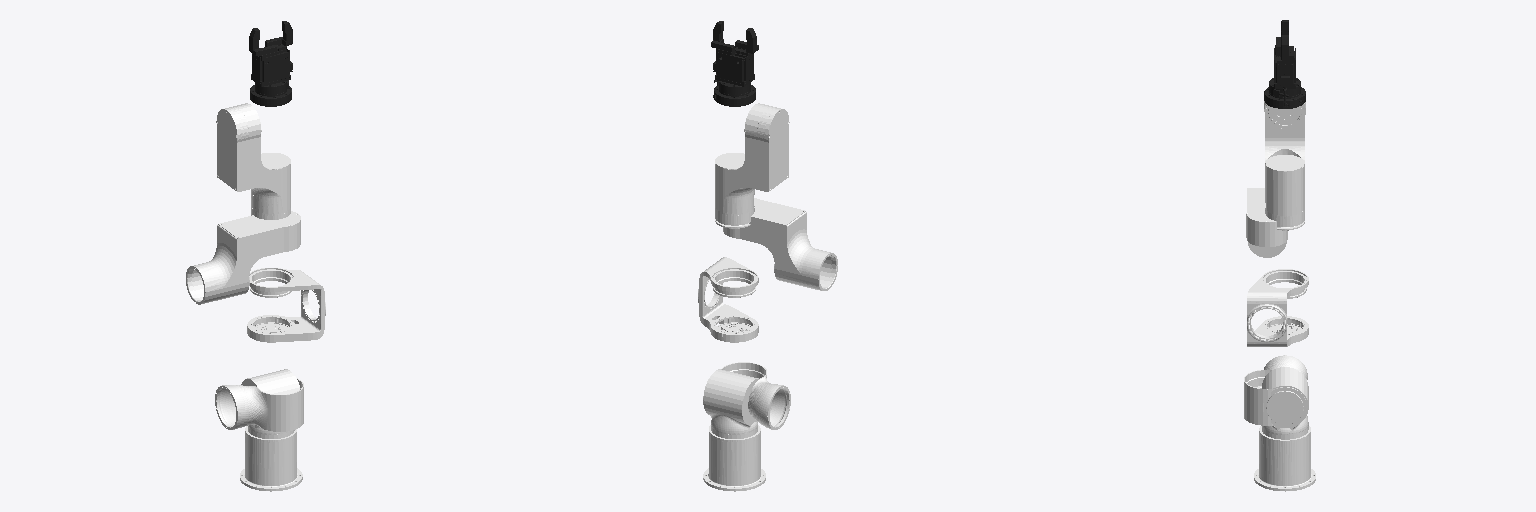
URDF robot description (w10-urdf):
<?xml version="1.0" encoding="utf-8"?>
<!-- This URDF was automatically created by SolidWorks to URDF Exporter! Originally created by Stephen Brawner (brawner@gmail.com) 
     Commit Version: 1.6.0-4-g7f85cfe  Build Version: 1.6.7995.38578
     For more information, please see http://wiki.ros.org/sw_urdf_exporter -->
<robot
  name="w10-urdf">
  <link
    name="base_link">
    <inertial>
      <origin
        xyz="4.1556E-12 5.0803E-12 0.081676"
        rpy="0 0 0" />
      <mass
        value="19.318" />
      <inertia
        ixx="0.067819"
        ixy="2.7427E-07"
        ixz="-2.7824E-12"
        iyy="0.067813"
        iyz="-6.6111E-12"
        izz="0.04982" />
    </inertial>
    <visual>
      <origin
        xyz="0 0 0"
        rpy="0 0 0" />
      <geometry>
        <mesh
          filename="package://w10_sim/meshes/base_link.STL" />
      </geometry>
      <material
        name="">
        <color
          rgba="1 1 1 1" />
      </material>
    </visual>
    <collision>
      <origin
        xyz="0 0 0"
        rpy="0 0 0" />
      <geometry>
        <mesh
          filename="package://w10_sim/meshes/base_link.STL" />
      </geometry>
    </collision>
  </link>
  <link
    name="Link2">
    <inertial>
      <origin
        xyz="0.0032675 -3.021E-06 0.085"
        rpy="0 0 0" />
      <mass
        value="10.901" />
      <inertia
        ixx="0.020174"
        ixy="6.1617E-12"
        ixz="6.0597E-12"
        iyy="0.025336"
        iyz="4.9314E-08"
        izz="0.025339" />
    </inertial>
    <visual>
      <origin
        xyz="0 0 0"
        rpy="0 0 0" />
      <geometry>
        <mesh
          filename="package://w10_sim/meshes/Link2.STL" />
      </geometry>
      <material
        name="">
        <color
          rgba="1 125 1 1" />
      </material>
    </visual>
    <collision>
      <origin
        xyz="0 0 0"
        rpy="0 0 0" />
      <geometry>
        <mesh
          filename="package://w10_sim/meshes/Link2.STL" />
      </geometry>
    </collision>
  </link>
  <joint
    name="joint2"
    type="continuous">
    <origin
      xyz="0 0 0.163"
      rpy="0 0 0" />
    <parent
      link="base_link" />
    <child
      link="Link2" />
    <axis
      xyz="0 0 -1" />
    <limit
      lower="-3.14"
      upper="3.14"
      effort="224"
      velocity="0" />
  </joint>
  <link
    name="Link3">
    <inertial>
      <origin
        xyz="-0.00018944 -0.16588 -0.0024151"
        rpy="0 0 0" />
      <mass
        value="18.719" />
      <inertia
        ixx="0.15689"
        ixy="0.00036464"
        ixz="0.00023874"
        iyy="0.058459"
        iyz="0.011864"
        izz="0.14437" />
    </inertial>
    <visual>
      <origin
        xyz="0 0 0"
        rpy="0 0 0" />
      <geometry>
        <mesh
          filename="package://w10_sim/meshes/Link3.STL" />
      </geometry>
      <material
        name="">
        <color
          rgba="1 1 125 1" />
      </material>
    </visual>
    <collision>
      <origin
        xyz="0 0 0"
        rpy="0 0 0" />
      <geometry>
        <mesh
          filename="package://w10_sim/meshes/Link3.STL" />
      </geometry>
    </collision>
  </link>
  <joint
    name="joint3"
    type="revolute">
    <origin
      xyz="0 0 0.085"
      rpy="-1.5708 0 -1.5708" />
    <parent
      link="Link2" />
    <child
      link="Link3" />
    <axis
      xyz="0 0 -1" />
    <limit
      lower="-1.8"
      upper="1.8"
      effort="224"
      velocity="0" />
  </joint>
  <link
    name="Link4">
    <inertial>
      <origin
        xyz="0.034074 -0.0039348 0.10793"
        rpy="0 0 0" />
      <mass
        value="17.534" />
      <inertia
        ixx="0.073159"
        ixy="0.0010879"
        ixz="-0.018036"
        iyy="0.080913"
        iyz="0.0025355"
        izz="0.043499" />
    </inertial>
    <visual>
      <origin
        xyz="0 0 0"
        rpy="0 0 0" />
      <geometry>
        <mesh
          filename="package://w10_sim/meshes/Link4.STL" />
      </geometry>
      <material
        name="">
        <color
          rgba="1 125 1 1" />
      </material>
    </visual>
    <collision>
      <origin
        xyz="0 0 0"
        rpy="0 0 0" />
      <geometry>
        <mesh
          filename="package://w10_sim/meshes/Link4.STL" />
      </geometry>
    </collision>
  </link>
  <joint
    name="joint4"
    type="continuous">
    <origin
      xyz="0 -0.2815 8.9457E-05"
      rpy="1.5708 0 0" />
    <parent
      link="Link3" />
    <child
      link="Link4" />
    <axis
      xyz="0 0 1" />
    <limit
      lower="-3.14"
      upper="3.14"
      effort="112"
      velocity="0" />
  </joint>
  <link
    name="Link5">
    <inertial>
      <origin
        xyz="-0.023914 -0.040467 -0.010198"
        rpy="0 0 0" />
      <mass
        value="7.087" />
      <inertia
        ixx="0.049793"
        ixy="-0.0076933"
        ixz="0.00031262"
        iyy="0.041831"
        iyz="0.0013761"
        izz="0.032075" />
    </inertial>
    <visual>
      <origin
        xyz="0 0 0"
        rpy="0 0 0" />
      <geometry>
        <mesh
          filename="package://w10_sim/meshes/Link5.STL" />
      </geometry>
      <material
        name="">
        <color
          rgba="125 1 1 1" />
      </material>
    </visual>
    <collision>
      <origin
        xyz="0 0 0"
        rpy="0 0 0" />
      <geometry>
        <mesh
          filename="package://w10_sim/meshes/Link5.STL" />
      </geometry>
    </collision>
  </link>
  <joint
    name="joint5"
    type="revolute">
    <origin
      xyz="0.050005 -8.944E-05 0.1435"
      rpy="-1.5708 0 0" />
    <parent
      link="Link4" />
    <child
      link="Link5" />
    <axis
      xyz="0 0 -1" />
    <limit
      lower="-2.2"
      upper="1.5"
      effort="112"
      velocity="0" />
  </joint>
  <link
    name="Link6">
    <inertial>
      <origin
        xyz="-1.0355E-05 -0.052363 0.17582"
        rpy="0 0 0" />
      <mass
        value="27.001" />
      <inertia
        ixx="0.2404"
        ixy="9.5265E-07"
        ixz="-1.202E-08"
        iyy="0.1908"
        iyz="0.078383"
        izz="0.097801" />
    </inertial>
    <visual>
      <origin
        xyz="0 0 0"
        rpy="0 0 0" />
      <geometry>
        <mesh
          filename="package://w10_sim/meshes/Link6.STL" />
      </geometry>
      <material
        name="">
        <color
          rgba="1 125 1 1" />
      </material>
    </visual>
    <collision>
      <origin
        xyz="0 0 0"
        rpy="0 0 0" />
      <geometry>
        <mesh
          filename="package://w10_sim/meshes/Link6.STL" />
      </geometry>
    </collision>
  </link>
  <joint
    name="joint6"
    type="continuous">
    <origin
      xyz="-0.049995 -0.1105 1.2129E-05"
      rpy="1.5708 0 0" />
    <parent
      link="Link5" />
    <child
      link="Link6" />
    <axis
      xyz="0 0 -1" />
    <limit
      lower="-3.14"
      upper="3.14"
      effort="35"
      velocity="0" />
  </joint>
  <link
    name="Link7">
    <inertial>
      <origin
        xyz="-0.00019188 -0.0058756 0.058824"
        rpy="0 0 0" />
      <mass
        value="9.0817" />
      <inertia
        ixx="0.018158"
        ixy="-2.0465E-05"
        ixz="1.6188E-05"
        iyy="0.013437"
        iyz="5.5083E-06"
        izz="0.01858" />
    </inertial>
    <visual>
      <origin
        xyz="0 0 0"
        rpy="0 0 0" />
      <geometry>
        <mesh
          filename="package://w10_sim/meshes/Link7.STL" />
      </geometry>
      <material
        name="">
        <color
          rgba="1 1 125 1" />
      </material>
    </visual>
    <collision>
      <origin
        xyz="0 0 0"
        rpy="0 0 0" />
      <geometry>
        <mesh
          filename="package://w10_sim/meshes/Link7.STL" />
      </geometry>
    </collision>
  </link>
  <joint
    name="joint7"
    type="revolute">
    <origin
      xyz="0 -0.062949 0.3162"
      rpy="-1.5708 0 0" />
    <parent
      link="Link6" />
    <child
      link="Link7" />
    <axis
      xyz="0 0 -1" />
    <limit
      lower="-1.8"
      upper="1.8"
      effort="35"
      velocity="0" />
  </joint>
  <link
    name="Link8">
    <inertial>
      <origin
        xyz="0.00010886 0.00095891 0.081689"
        rpy="0 0 0" />
      <mass
        value="5.9998" />
      <inertia
        ixx="0.004627"
        ixy="-6.3264E-05"
        ixz="1.7802E-06"
        iyy="0.0032324"
        iyz="-6.4806E-06"
        izz="0.0062846" />
    </inertial>
    <visual>
      <origin
        xyz="0 0 0"
        rpy="0 0 0" />
      <geometry>
        <mesh
          filename="package://w10_sim/meshes/Link8.STL" />
      </geometry>
      <material
        name="">
        <color
          rgba="0.2 0.2 0.2 1" />
      </material>
    </visual>
    <collision>
      <origin
        xyz="0 0 0"
        rpy="0 0 0" />
      <geometry>
        <mesh
          filename="package://w10_sim/meshes/Link8.STL" />
      </geometry>
    </collision>
  </link>
  <joint
    name="joint8"
    type="continuous">
    <origin
      xyz="0 -0.0684 0.062"
      rpy="1.5708 0 0" />
    <parent
      link="Link7" />
    <child
      link="Link8" />
    <axis
      xyz="0 0 1" />
    <limit
      lower="-3.14"
      upper="3.14"
      effort="35"
      velocity="0" />
  </joint>
</robot>

--- Facts derived from the render (not from the file) ---
Views: 3 orthographic renders of the robot side by side, from view 1: azimuth 30°, elevation 25°; view 2: azimuth 150°, elevation 25°; view 3: azimuth 270°, elevation 25°.
Robot: w10-urdf — 8 links, 7 joints (3 revolute, 4 continuous); root link base_link; default pose: every joint at zero.
Links seen in each view (by area): view 1: Link5, Link6, Link4, Link3, base_link, Link8, Link2; view 2: Link6, Link5, Link4, base_link, Link8, Link2, Link3; view 3: Link6, Link4, base_link, Link2, Link8, Link5, Link3.
Link boxes in pixels (box(x1,y1,x2,y2)): Link5: box(186, 211, 300, 304); Link6: box(216, 103, 290, 219); Link4: box(247, 268, 325, 342); Link3: box(215, 378, 303, 431); base_link: box(240, 426, 302, 491); Link8: box(249, 21, 292, 106); Link2: box(241, 369, 299, 434); Link6: box(715, 103, 789, 228); Link5: box(723, 198, 837, 290); Link4: box(698, 257, 758, 342); base_link: box(703, 425, 765, 491); Link8: box(711, 21, 758, 106); Link2: box(703, 369, 758, 434); Link3: box(722, 362, 790, 429); Link6: box(1264, 102, 1305, 230); Link4: box(1247, 269, 1308, 346); base_link: box(1254, 426, 1315, 491); Link2: box(1262, 367, 1308, 434); Link8: box(1264, 20, 1305, 108); Link5: box(1246, 188, 1287, 257); Link3: box(1244, 355, 1307, 425).
Size in the robot's own frame: 0.3866 by 0.2035 by 1.38 metres.
8 mesh visuals loaded from 8 distinct referenced files (8 binary STL).
